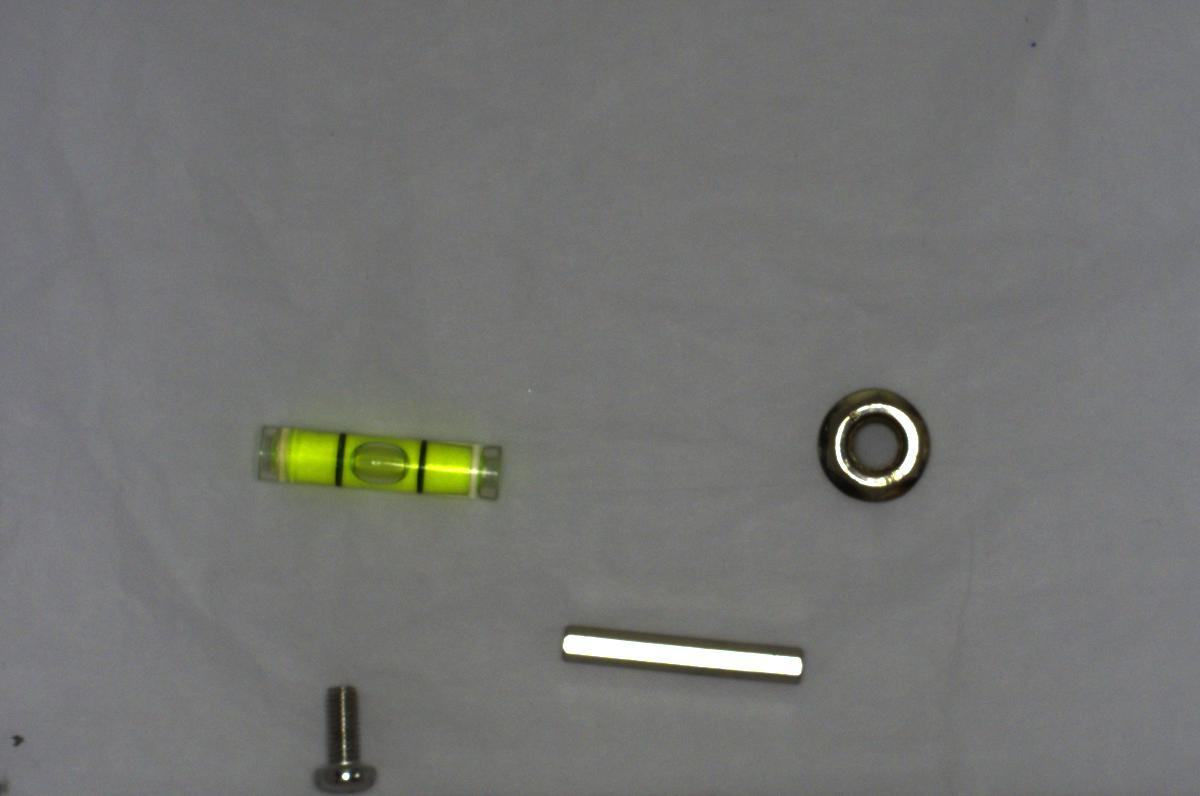Double hexagonal column: (555, 619, 814, 690)
Flange nut: (801, 375, 937, 505)
Horizontal bubble: (245, 420, 507, 507)
Round head screw: (305, 672, 381, 792)
